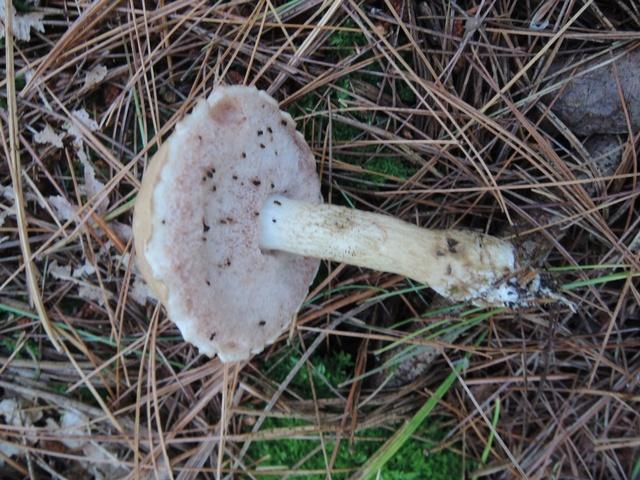Non-edible Mushroom: (130, 82, 560, 364)
